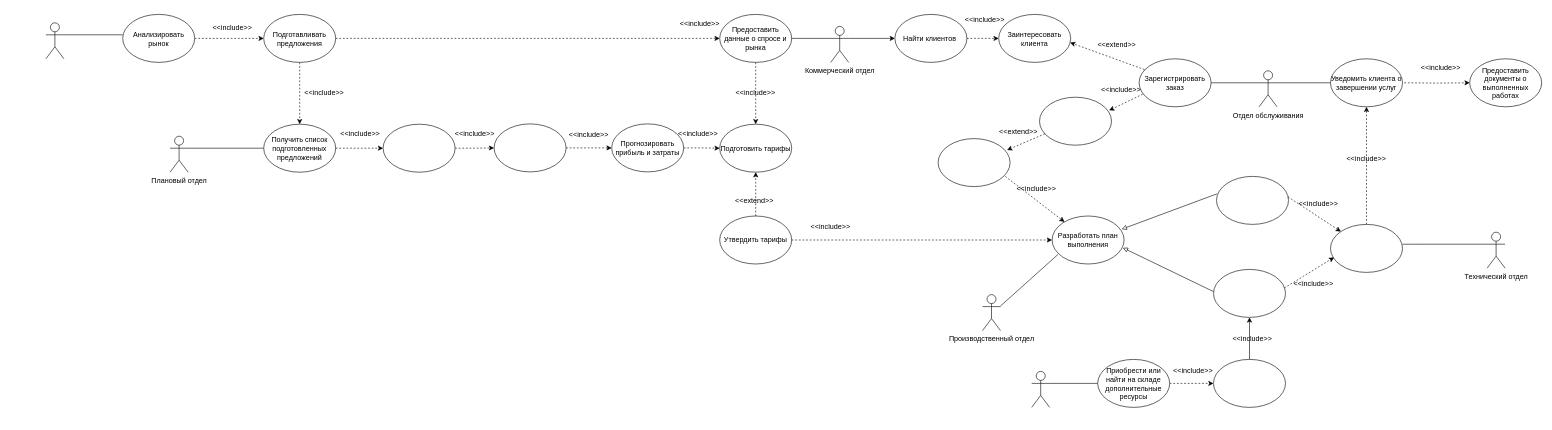
The diagram is 1552 pixels wide and 430 high, and some of its shapes have lost their labels. Here are the shapes that lost their labels. From the top down, the centre of each, then its label:
At pixel 54 40: "Отдел планового развития".
At pixel 1075 121: "Создать договор".
At pixel 418 148: "Произвести анализ полученных предложений".
At pixel 530 147: "Выбрать лучшие предложения для дальнейшего анализа".
At pixel 974 162: "Получить подтверждение договора от клиента".
At pixel 1252 200: "Начать выполнения работ без доп ресурсов".
At pixel 1366 248: "Выполнить технические работы по подключению".
At pixel 1249 293: "Запросить дополнительные ресурсы".
At pixel 1040 389: "Отдел закупок".
At pixel 1249 383: "Передать в использование дополнительные ресурсы".
